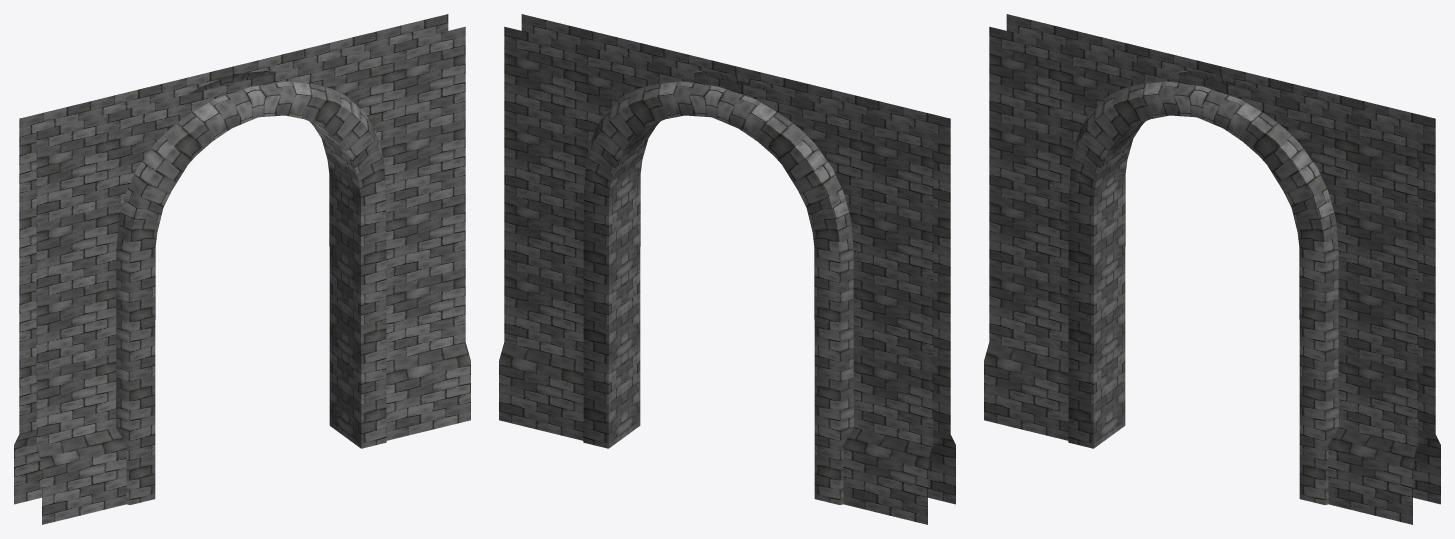
Rendered from CityWall_Gate.fbx.
3 renders of one model, left to right at view 1: azimuth 30°, elevation 25°; view 2: azimuth 150°, elevation 25°; view 3: azimuth 330°, elevation 25°, orthographic.
Parts seen in each view (by area): view 1: CityWallGateWall (×2), CityWallGateTrim (×2); view 2: CityWallGateWall (×2), CityWallGateTrim (×2); view 3: CityWallGateWall (×2), CityWallGateTrim (×2).
Part boxes in pixels (left/top/right/bottom): CityWallGateWall (×2): left=14, top=14, right=470, bottom=524; CityWallGateTrim (×2): left=116, top=70, right=386, bottom=504; CityWallGateWall (×2): left=499, top=14, right=955, bottom=524; CityWallGateTrim (×2): left=583, top=70, right=853, bottom=504; CityWallGateWall (×2): left=984, top=14, right=1440, bottom=524; CityWallGateTrim (×2): left=1068, top=70, right=1338, bottom=504.
Bounding box in the file's own units: 15.87 × 13.77 × 2.02.
1 material, 1 textured.
